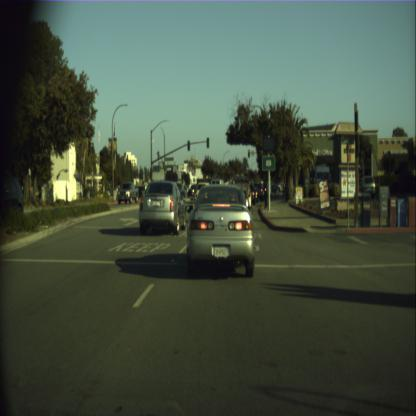Red: (247, 149, 250, 158)
